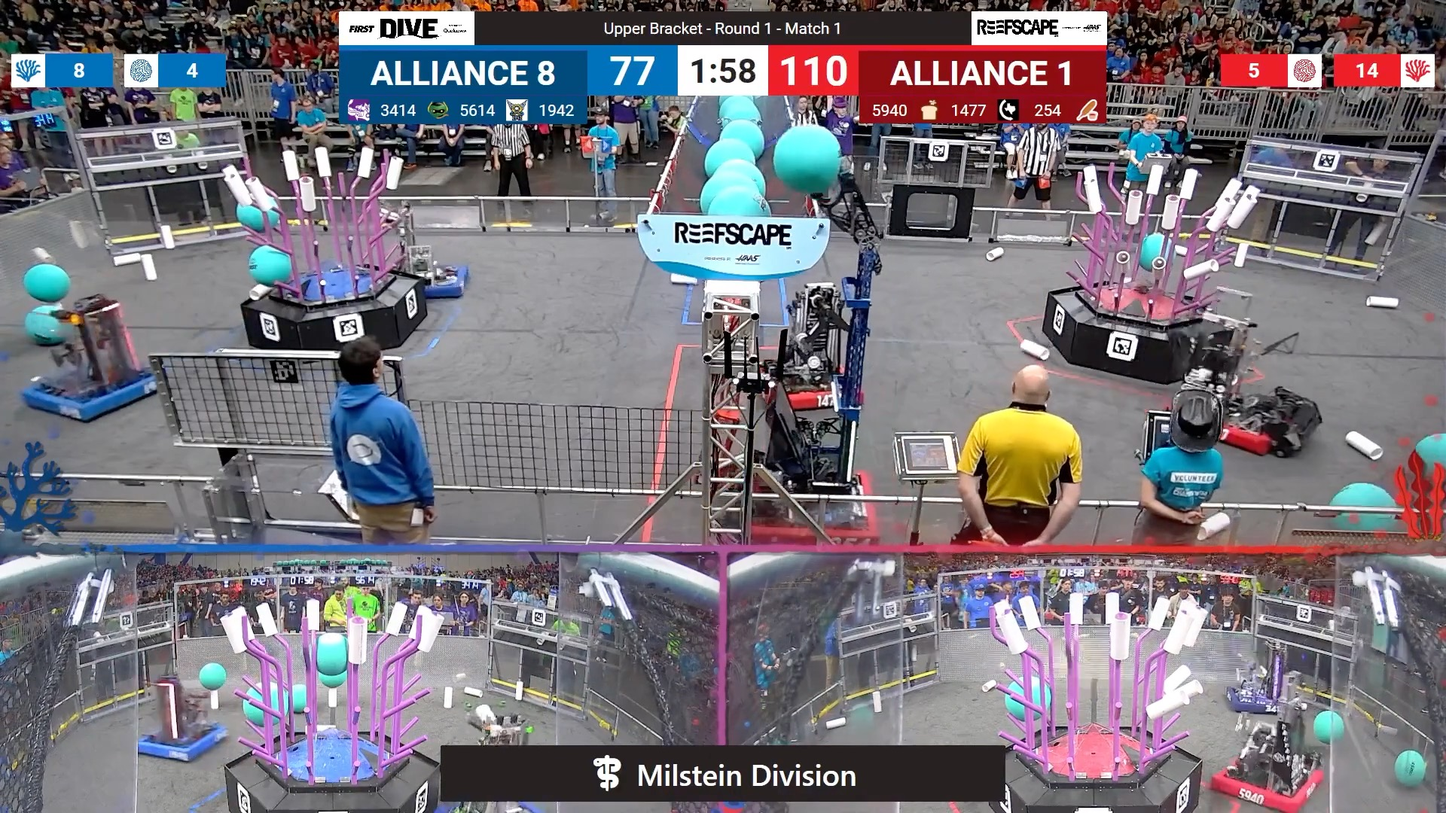bumpers: (744, 468, 883, 553), (1176, 388, 1325, 462), (14, 366, 167, 426), (1204, 754, 1333, 813), (722, 371, 871, 413), (129, 718, 237, 769), (1222, 680, 1299, 721), (400, 260, 474, 297)
